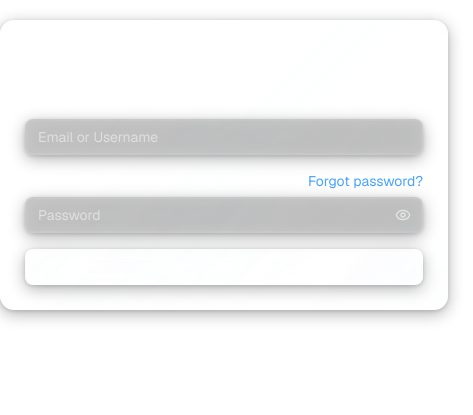
LoginPage › shows error when two-factor verification fails
Type "user@test.com" into the field with placeholder "Email or username" at (224, 137), box [25,119,423,155]
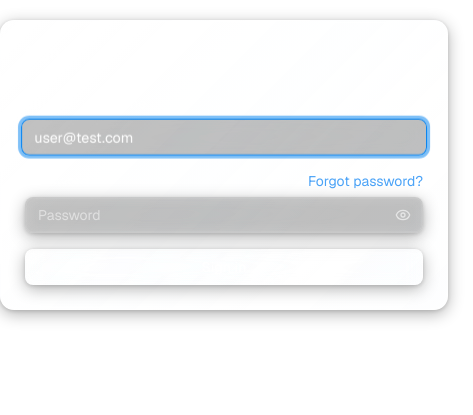
Type "secret" into the password field with placeholder "Password" at (224, 215), box [25,197,423,233]
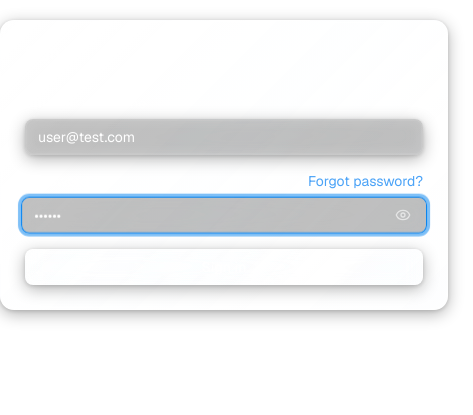
Click the button "Sign in" at (224, 267), box [25,249,423,285]
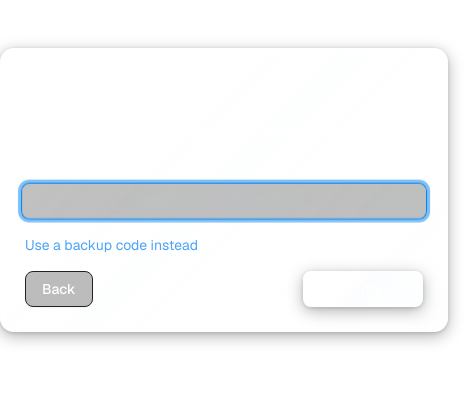
expect the field labelled "Authentication code" is shown: met
Type "999999" into the field labelled "Authentication code" at (224, 201), box [21,183,427,219]
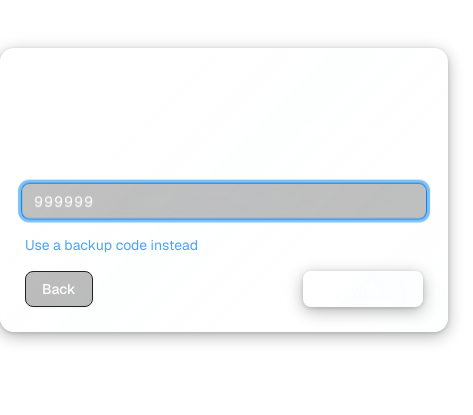
Click the button "Verify" at (363, 289), box [303,271,423,307]
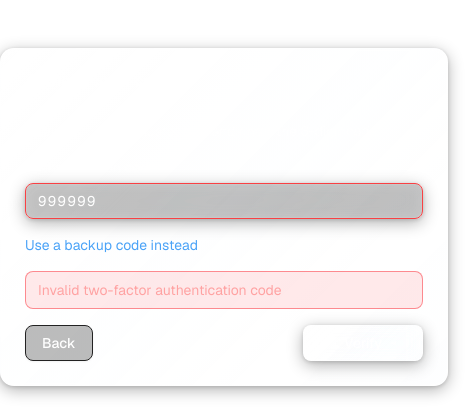
expect the text "Invalid two-factor authentication code" is shown: met, box [25,271,423,309]
